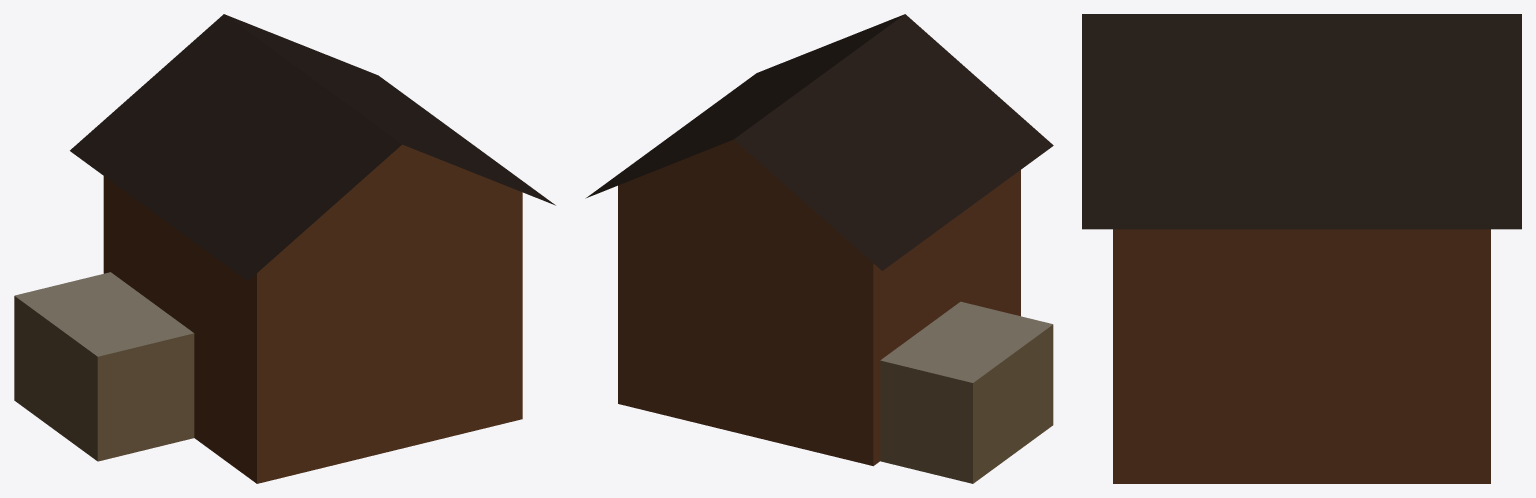
File: rw-chalet.towns-v1.lod2.glb
3 views of the same model, side by side, from view 1: azimuth 30°, elevation 25°; view 2: azimuth 150°, elevation 25°; view 3: azimuth 270°, elevation 25° (orthographic). The views are drawn at different scales.
Visible parts, largest first — view 1: rw-chalet; view 2: rw-chalet; view 3: rw-chalet.
Part boxes in pixels (x1=…): rw-chalet: x1=14, y1=14, x2=555, y2=483; rw-chalet: x1=585, y1=14, x2=1053, y2=483; rw-chalet: x1=1082, y1=14, x2=1521, y2=483.
Size of the model in its own units: 15.9 by 12.52 by 12.8.
